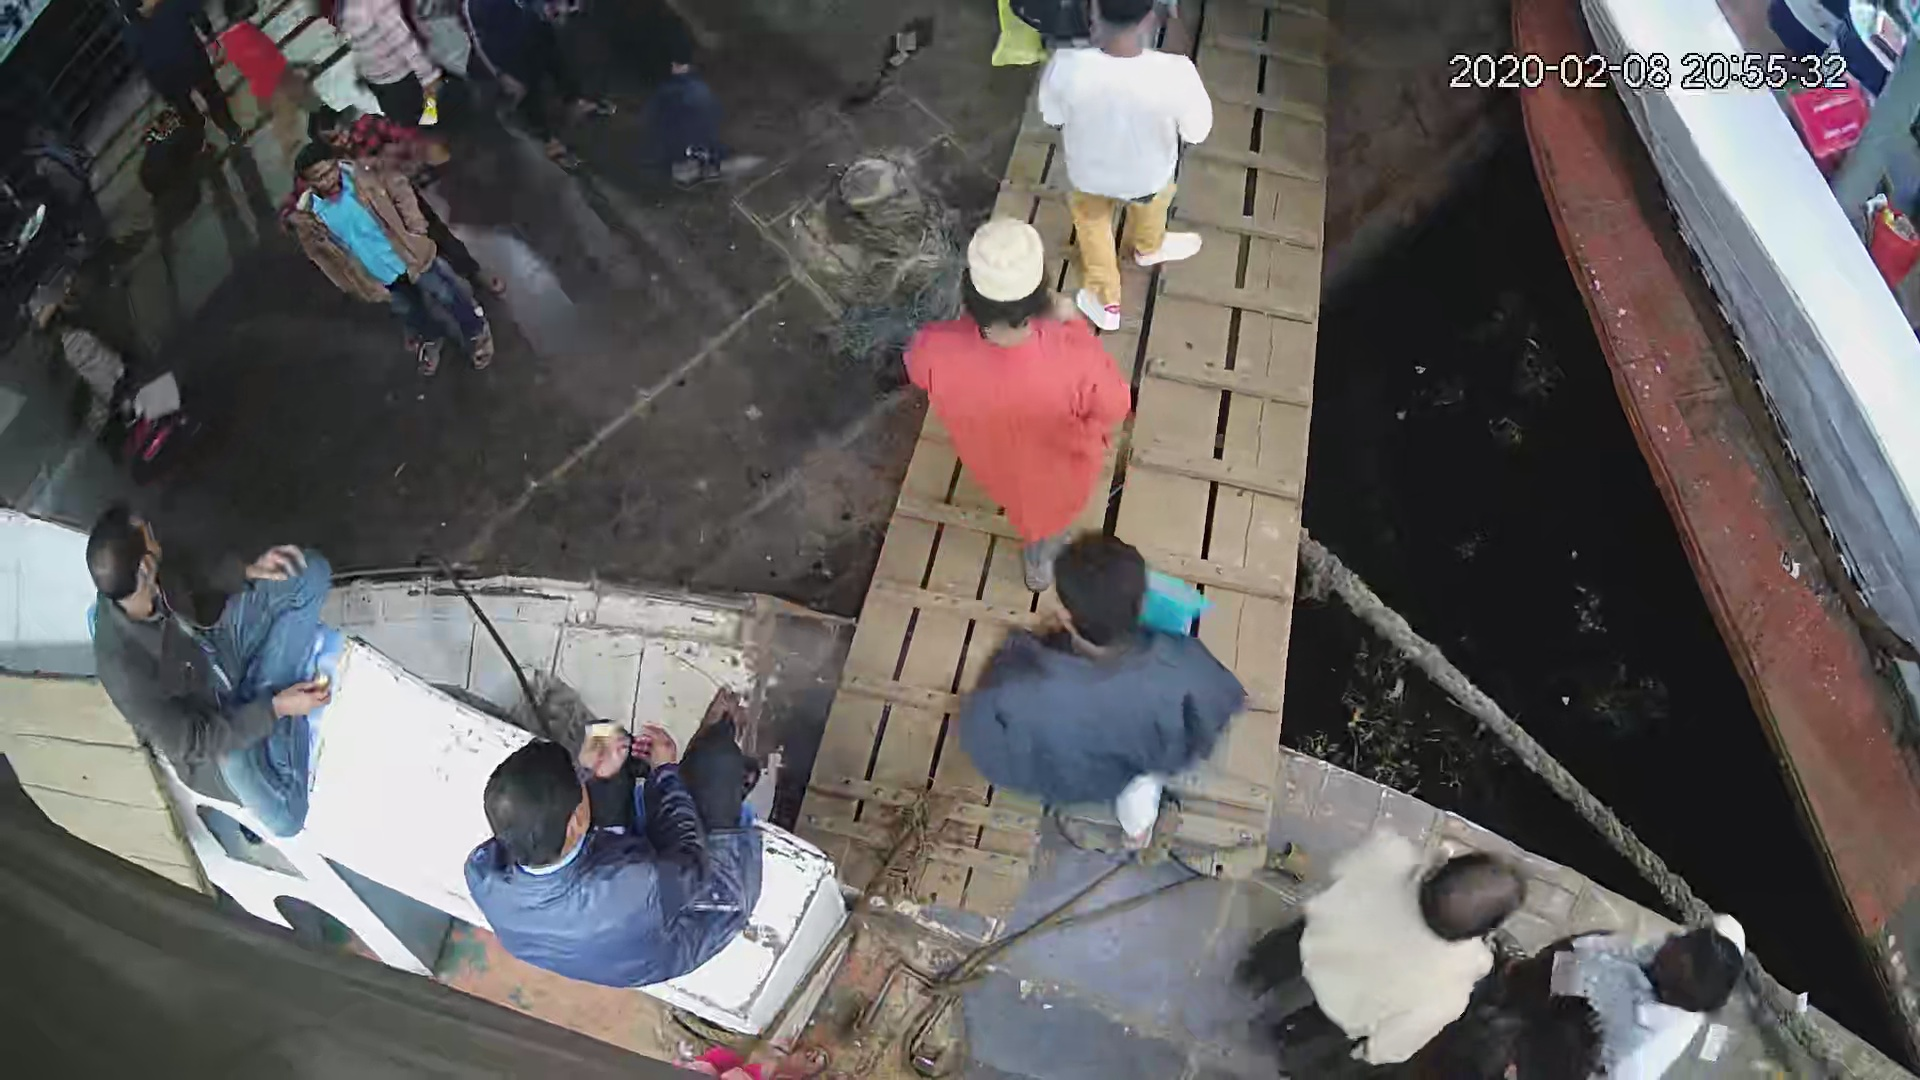person: (940, 527, 1249, 859), (456, 673, 768, 995), (84, 502, 336, 847), (889, 213, 1139, 545), (1247, 819, 1529, 1076), (1031, 1, 1219, 338), (279, 150, 504, 381), (1523, 903, 1751, 1080), (594, 1, 745, 191), (459, 1, 615, 164), (310, 1, 467, 138), (117, 1, 251, 143)
